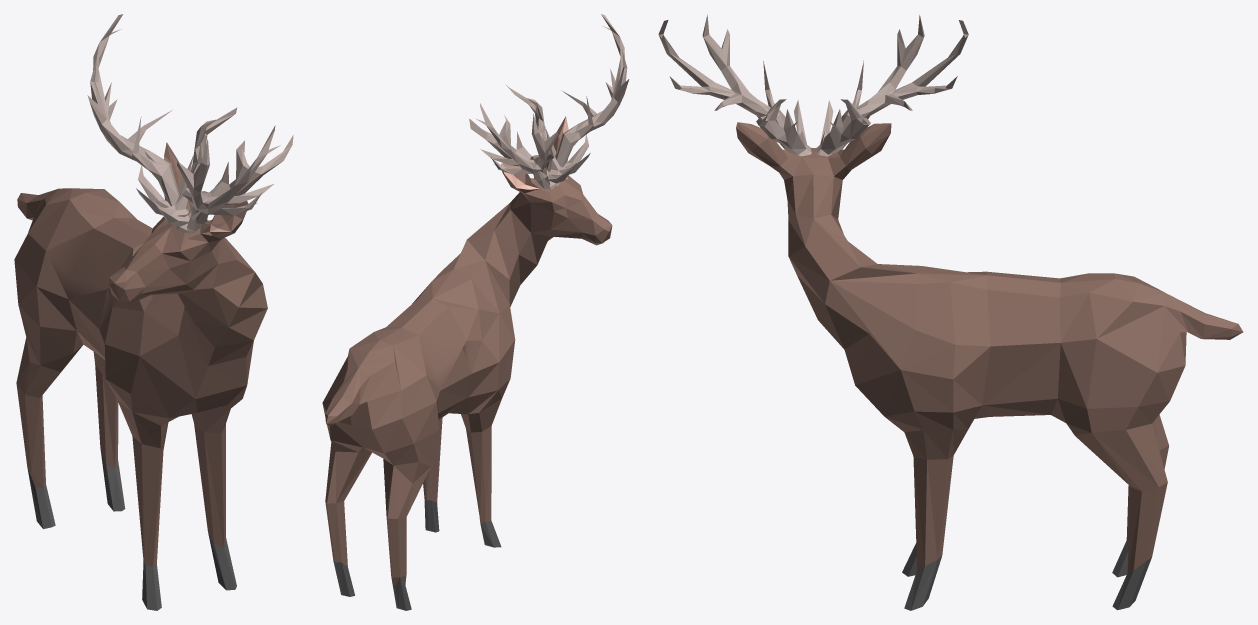
File: animal_004.glb
The picture shows the model from 3 angles, left to right: view 1: azimuth 30°, elevation 25°; view 2: azimuth 150°, elevation 25°; view 3: azimuth 270°, elevation 25°; orthographic projection. The views are drawn at different scales.
Parts seen in each view (by area): view 1: animal_004; view 2: animal_004; view 3: animal_004.
Boxes of the visible parts, <box> form: animal_004: <box>14,14,293,610</box>; animal_004: <box>322,14,629,610</box>; animal_004: <box>658,14,1243,610</box>.
Bounding box in the file's own units: 1.63 × 4.54 × 4.36.
1 material, 1 textured.
